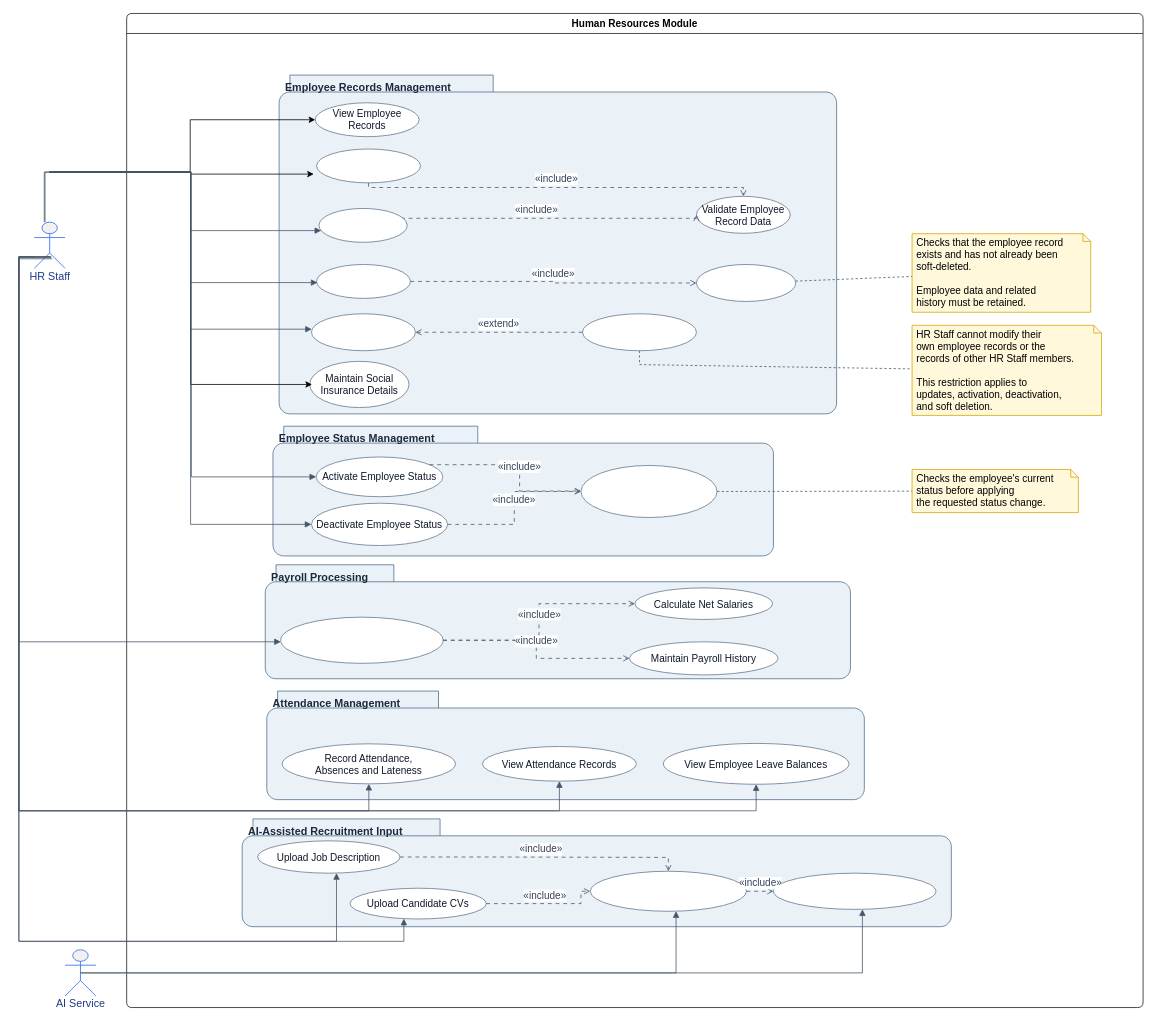
The diagram is 1157 pixels wide and 1024 high, and some of its shapes have lost their labels. Each missing label, with the centre of its shape:
Analyze CVs Against Job Description: [668,890]
Create Employee Record: [362,225]
Link Legal Employment Contracts: [639,332]
Manage Employee Documents: [363,332]
Manage Monthly Payroll Components: [361,639]
Score and Rank Candidates: [854,890]
Soft Delete Employee Record: [363,281]
Update Employee Record: [368,165]
Validate Employee Deletion: [746,282]
Validate Employee Status Transition: [648,491]
